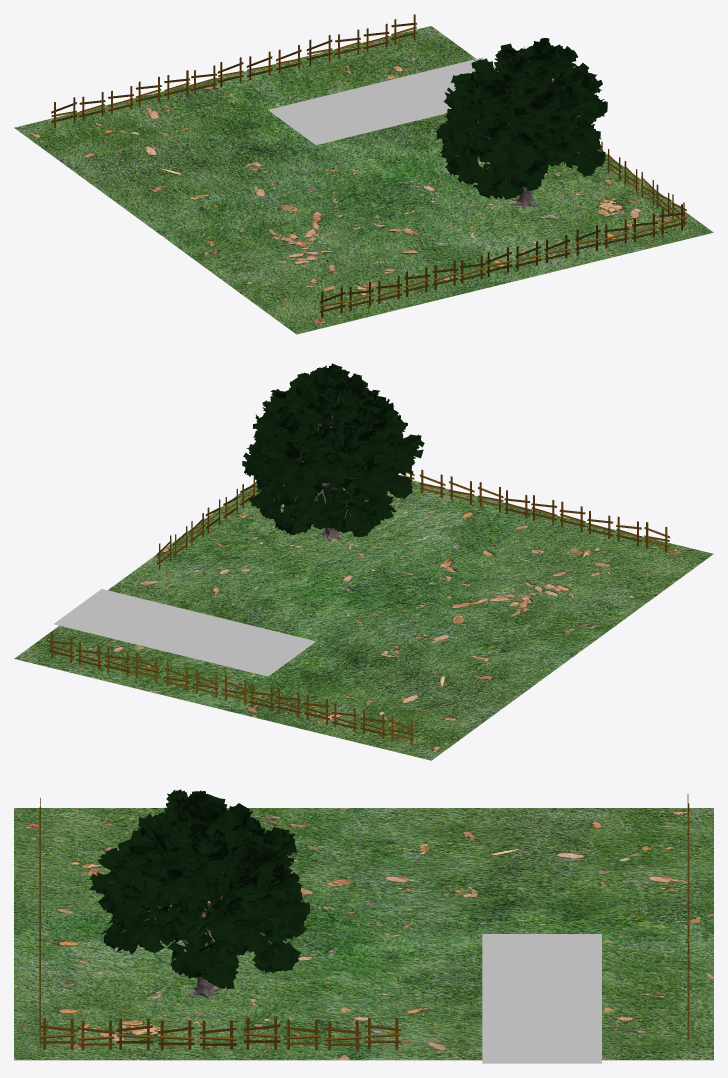
The model's file is Halaman rumah.obj.
The picture shows the model from 3 angles, top to bottom: view 1: azimuth 30°, elevation 25°; view 2: azimuth 150°, elevation 25°; view 3: azimuth 270°, elevation 25°; orthographic projection. The views are drawn at different scales.
Parts seen in each view (by area): view 1: Plane.001, leaves, Plane; view 2: Plane.001, leaves, Plane; view 3: Plane.001, leaves, Plane, tree, Cylinder.003, Cylinder.006, Cylinder.009, Cylinder.004, Cylinder.005, Cylinder.001, Cylinder.008, Cylinder.002 (+1 smaller).
Boxes of the visible parts, box(x1,y1,x2,y2) form: Plane.001: box(14, 26, 713, 334); leaves: box(436, 38, 607, 199); Plane: box(268, 57, 498, 144); Plane.001: box(14, 480, 713, 760); leaves: box(242, 363, 424, 537); Plane: box(53, 589, 315, 676); Plane.001: box(14, 808, 713, 1060); leaves: box(89, 789, 310, 989); Plane: box(482, 934, 601, 1063); tree: box(107, 824, 277, 999); Cylinder.003: box(157, 1020, 194, 1049); Cylinder.006: box(243, 1017, 280, 1049); Cylinder.009: box(364, 1017, 401, 1049); Cylinder.004: box(39, 1018, 76, 1049); Cylinder.005: box(199, 1020, 236, 1049); Cylinder.001: box(77, 1020, 114, 1049); Cylinder.008: box(324, 1020, 361, 1049); Cylinder.002: box(116, 1018, 153, 1049).
Size of the model in its own units: 14.99 by 5.61 by 17.33.
